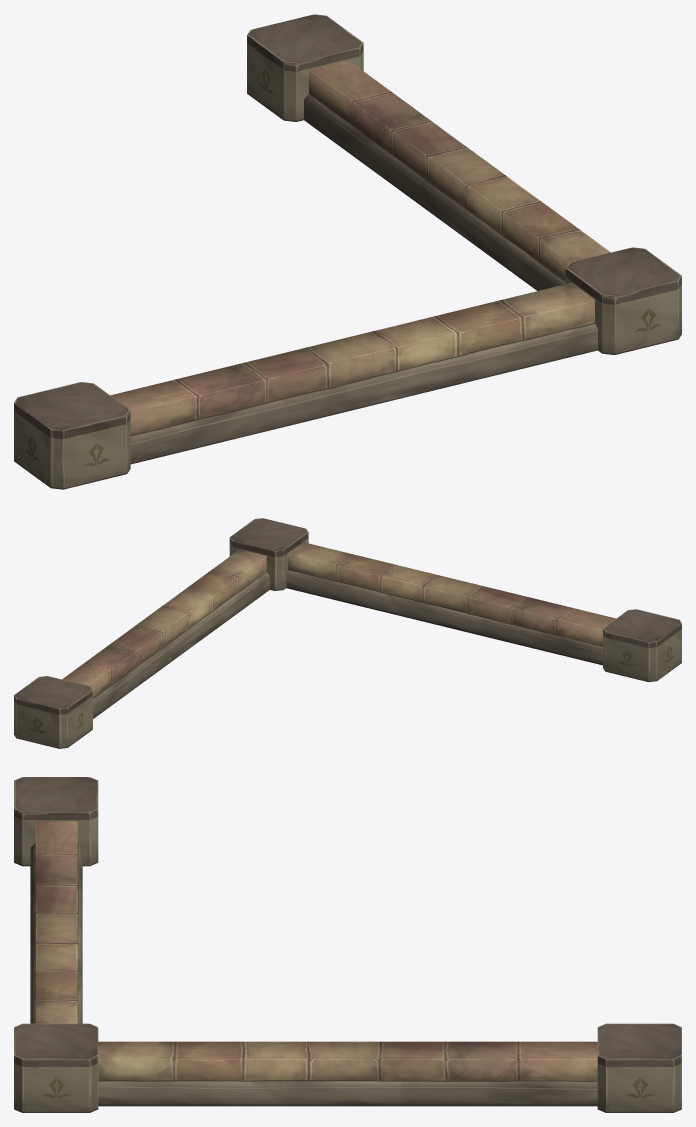
The model's file is bricks3.fbx.
3 views of the same model, one above another, from view 1: azimuth 30°, elevation 25°; view 2: azimuth 150°, elevation 25°; view 3: azimuth 270°, elevation 25° (orthographic). The views are drawn at different scales.
Visible parts, largest first — view 1: polySurface738; view 2: polySurface738; view 3: polySurface738.
Part boxes in pixels (bbox=[...]): polySurface738: bbox=[14, 14, 681, 489]; polySurface738: bbox=[14, 518, 681, 748]; polySurface738: bbox=[14, 777, 681, 1112].
Bounding box in the file's own units: 3.79 × 0.3359 × 3.79.
